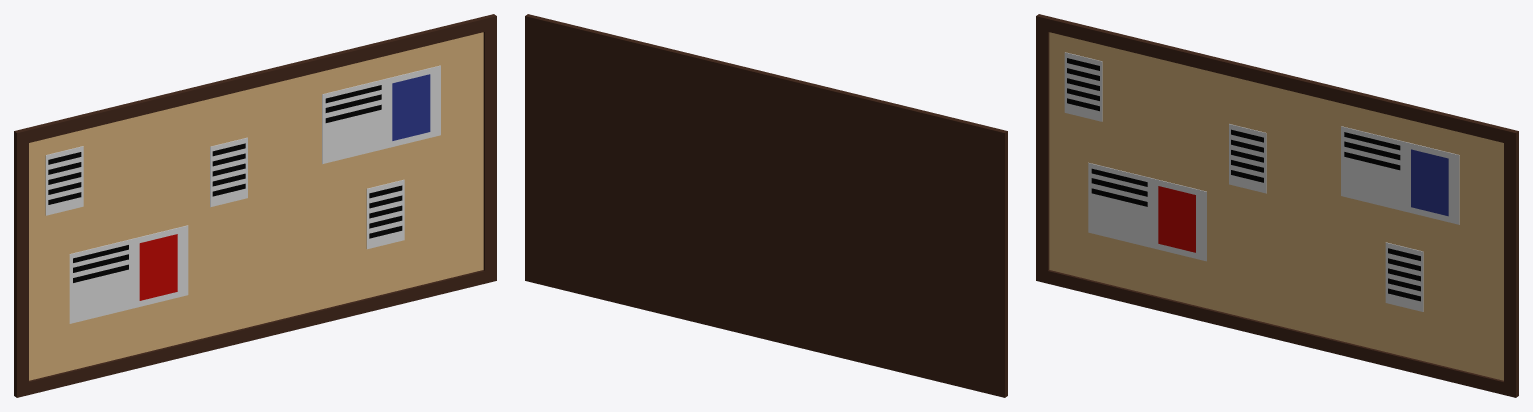
The model's file is P_Board_Cork.fbx.
3 renders of one model, left to right at view 1: azimuth 30°, elevation 25°; view 2: azimuth 150°, elevation 25°; view 3: azimuth 330°, elevation 25°, orthographic.
Parts seen in each view (by area): view 1: P_Board_Cork; view 2: P_Board_Cork; view 3: P_Board_Cork.
Part boxes in pixels (x1,y1,x2,y2): P_Board_Cork: (14, 14, 496, 397); P_Board_Cork: (525, 14, 1007, 397); P_Board_Cork: (1036, 14, 1518, 397).
Size of the model in its own units: 1097 by 12.57 by 578.
